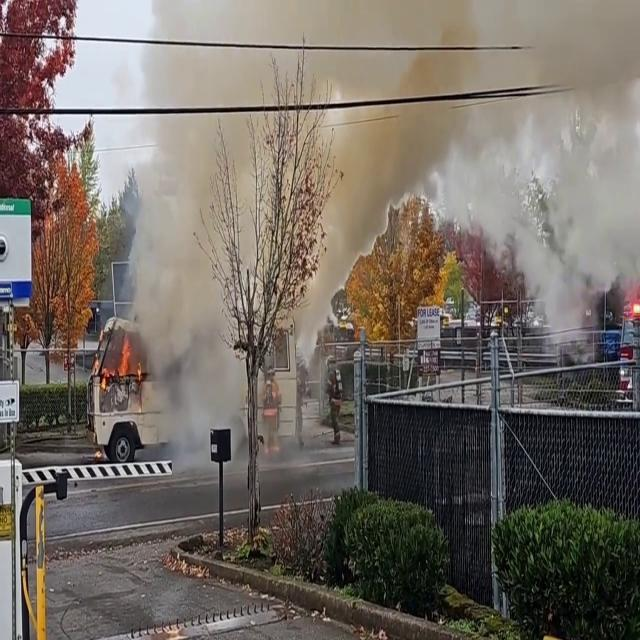Fire: (95, 320, 140, 394)
Smoke: (146, 0, 628, 243), (406, 0, 640, 327), (117, 116, 291, 452)
